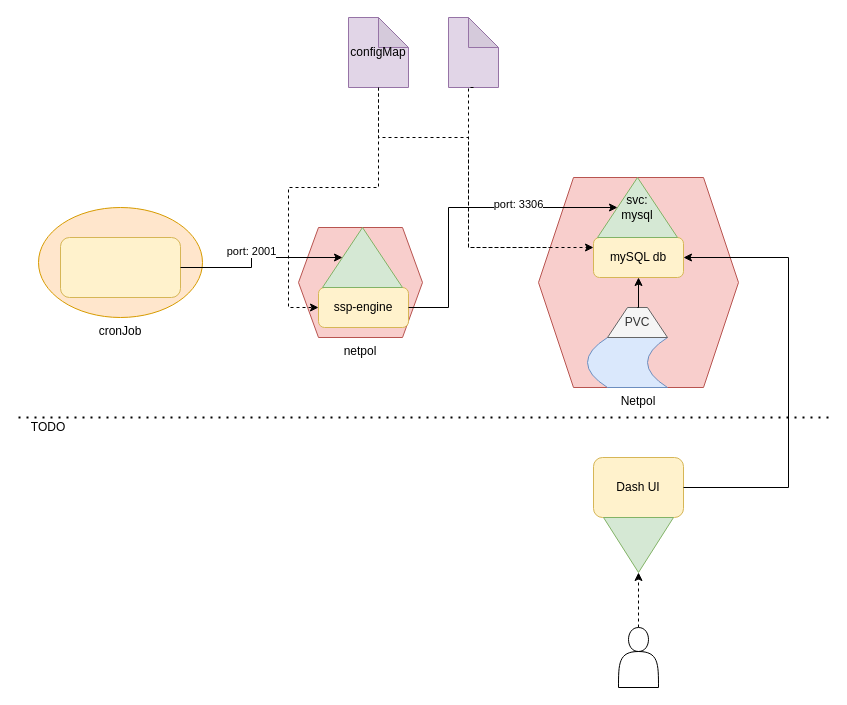
Image size: 847x705. Some labels were removed from this diagram. The centre of each missing label's shape, as x and y in pixels:
"PV" goes at (x=627, y=362).
"secret" goes at (x=473, y=52).
"ssp-engine ticker" goes at (x=120, y=267).
"svc (NP)" goes at (x=638, y=544).
"svc: sspengine" goes at (x=362, y=257).
